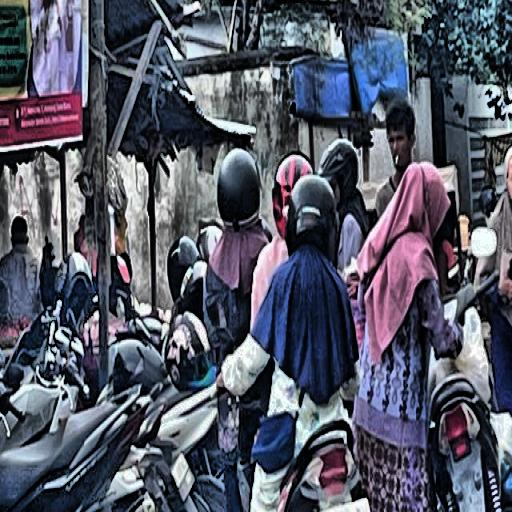Rokok: (375, 100, 414, 218)
